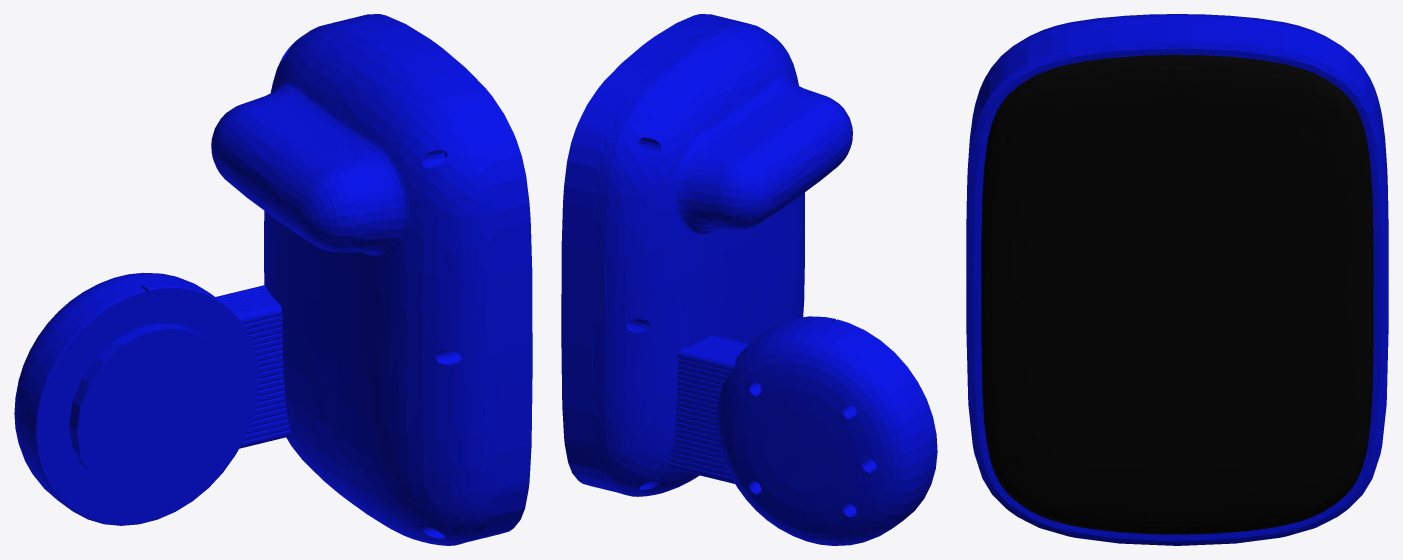
The model's file is head_pitch.glb.
3 renders of one model, left to right at view 1: azimuth 30°, elevation 25°; view 2: azimuth 150°, elevation 25°; view 3: azimuth 270°, elevation 25°, orthographic. The views are drawn at different scales.
Visible parts, largest first — view 1: head_Link_2; view 2: head_Link_2; view 3: head_Link_2.
Part boxes in pixels (<box>): head_Link_2: <box>14,14,532,545</box>; head_Link_2: <box>561,14,937,545</box>; head_Link_2: <box>966,14,1388,545</box>.
Bounding box in the file's own units: 0.1687 × 0.1979 × 0.15.
